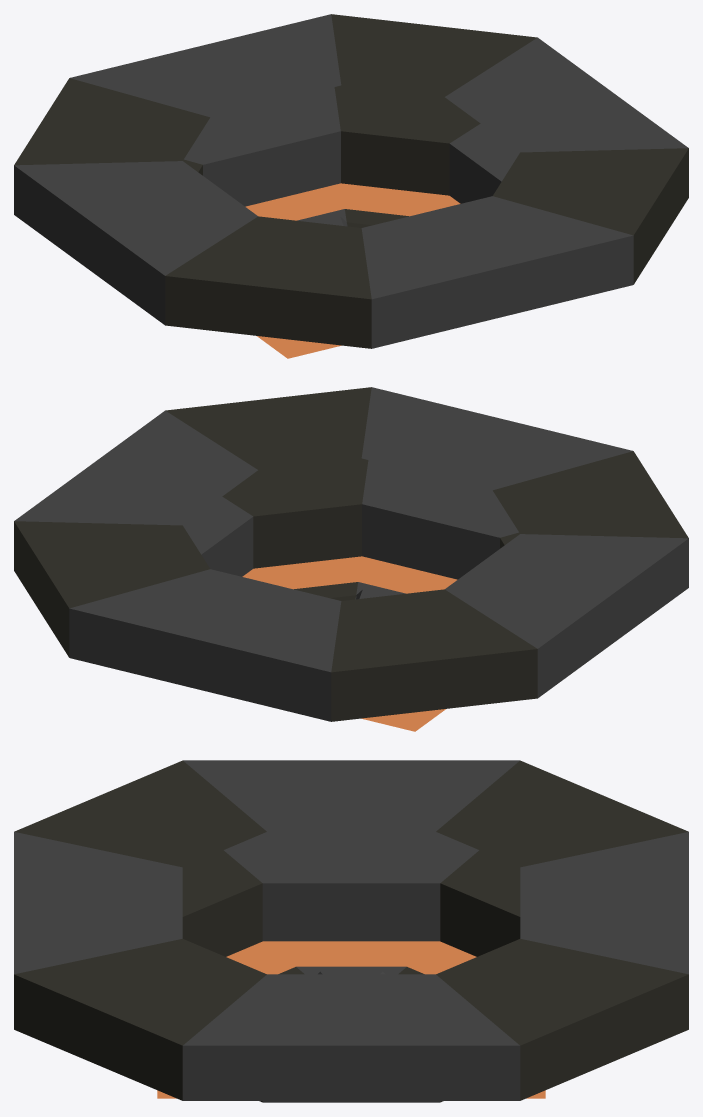
Rendered from Lava Dome.fbx.
3 renders of one model, top to bottom at view 1: azimuth 30°, elevation 25°; view 2: azimuth 150°, elevation 25°; view 3: azimuth 270°, elevation 25°, orthographic. The views are drawn at different scales.
Visible parts, largest first — view 1: Cube, Plane; view 2: Cube, Plane; view 3: Cube, Plane.
Part boxes in pixels (x1,y1,x2,y2): Cube: (14,14,688,348); Plane: (245,183,460,358); Cube: (14,387,688,721); Plane: (242,556,457,731); Cube: (14,760,688,1102); Plane: (157,941,545,1098).
Size of the model in its own units: 13279 by 2700 by 13279.
